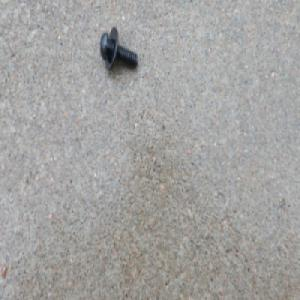BoltWasher: (99, 27, 138, 73)
